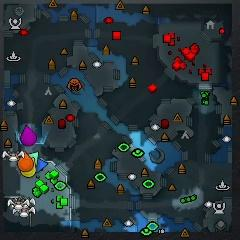p1: (36, 158, 47, 173)
p2: (28, 152, 38, 165)
p3: (21, 125, 37, 146)
p4: (21, 157, 36, 178)
p5: (18, 152, 33, 171)
